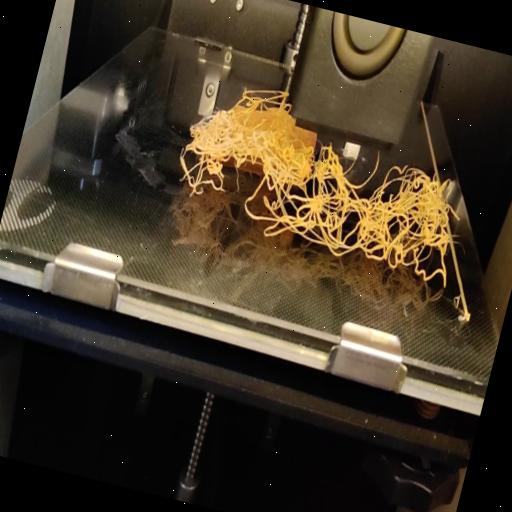spaghetti: (242, 128, 380, 270), (346, 161, 476, 308), (173, 106, 272, 206), (232, 78, 296, 135)
